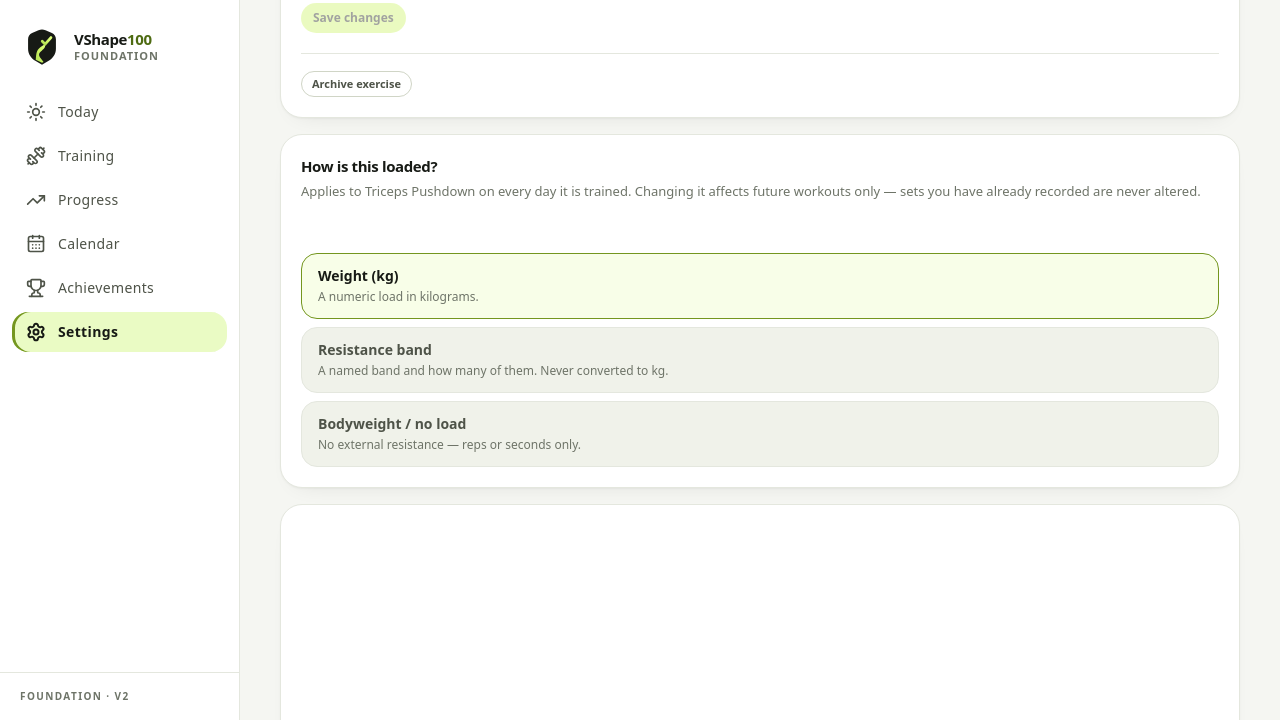
Test: the input type selector › says a save failed, and keeps showing the answer that is actually stored
(page scrolled)
Click the radio button labelled "Resistance band". click: (375, 350)
box: [301,328,1219,394]
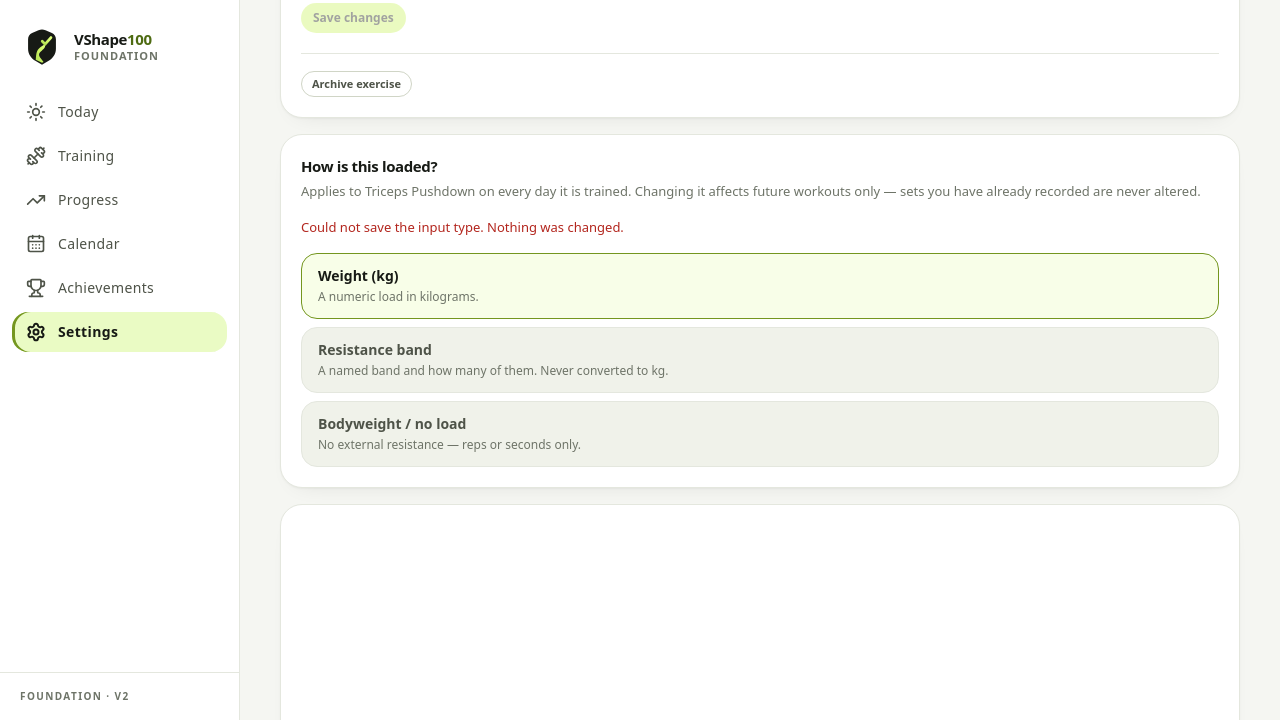
Now the text "Could not save the input type. Nothing was changed." is shown, box [301,218,624,237]
